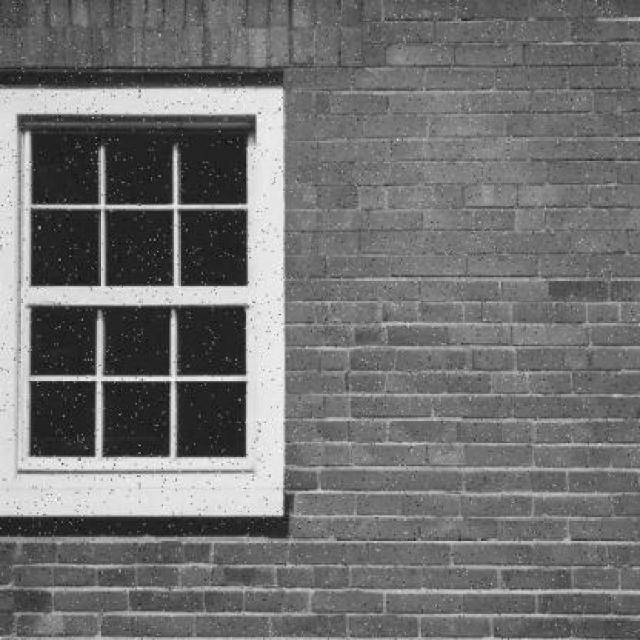window: (1, 69, 284, 536)
